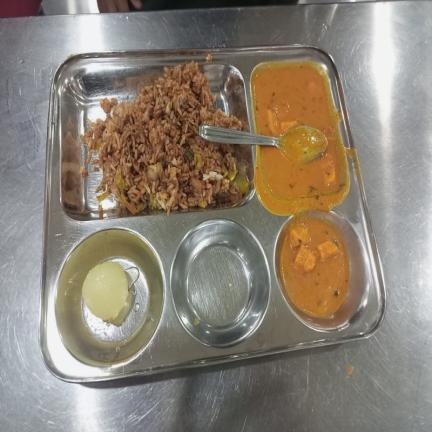Chhaina: (81, 262, 129, 321)
Fried Rice: (81, 59, 242, 214)
Paneer: (251, 66, 341, 201), (280, 213, 352, 317)
Plate: (39, 44, 387, 384)
